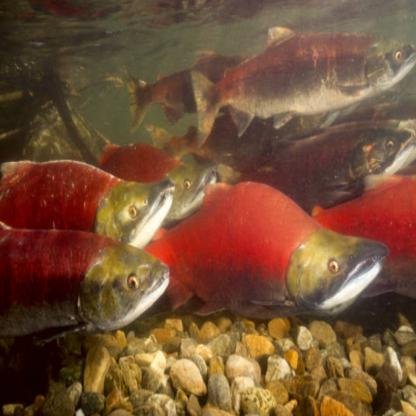sockeye: (164, 178, 378, 320), (200, 22, 414, 134), (0, 219, 161, 331), (3, 155, 168, 247), (81, 149, 209, 220)
